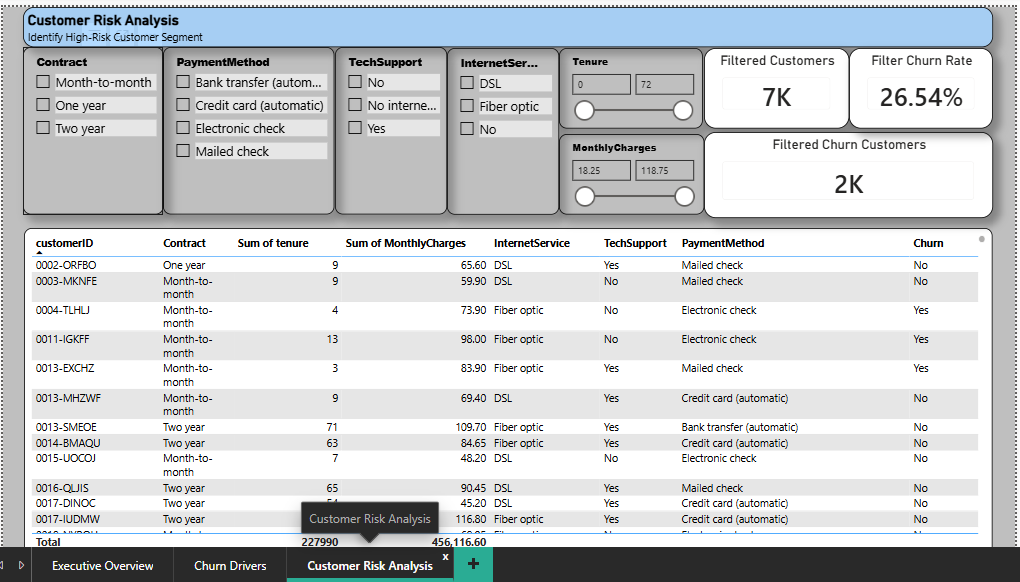

The dashboard page shown, as its layout file describes it:
{"tool":"powerbi","page":{"name":"Customer Risk Analysis","canvas":[1280,720],"ordinal":2},"visuals":[{"type":"slicer","fields":{"Values":["Cleaned_Data.Contract"]},"box":[25.4,50.8,177.8,212.1],"z":0},{"type":"slicer","fields":{"Values":["Cleaned_Data.InternetService"]},"box":[561.7,52.3,141.9,210.6],"z":1000},{"type":"slicer","fields":{"Values":["Cleaned_Data.tenure"]},"box":[703.6,52.3,182.2,101.6],"z":2000},{"type":"slicer","fields":{"Values":["Cleaned_Data.TechSupport"]},"box":[419.8,50.8,141.9,212.1],"z":3000},{"type":"slicer","fields":{"Values":["Cleaned_Data.PaymentMethod"]},"box":[203.2,50.8,216.6,212.1],"z":4000},{"type":"tableEx","fields":{"Values":["Cleaned_Data.customerID","Cleaned_Data.Contract","Sum(Cleaned_Data.tenure)","Sum(Cleaned_Data.MonthlyCharges)","Cleaned_Data.InternetService","Cleaned_Data.TechSupport","Cleaned_Data.PaymentMethod","Cleaned_Data.Churn"]},"box":[26.9,279.3,1226.4,424.2],"z":5000},{"type":"slicer","fields":{"Values":["Cleaned_Data.MonthlyCharges"]},"box":[703.6,161.3,183.7,101.6],"z":6000},{"type":"shape","title":"Customer Risk Analysis","box":[25.4,0,1227.9,50.8],"z":7000},{"type":"cardVisual","title":"Filtered Customers","fields":{"Data":["Cleaned_Data.Filterd Customers"]},"box":[887.3,52.3,183.7,101.6],"z":7001},{"type":"cardVisual","title":"Filtered Churn Customers","fields":{"Data":["Cleaned_Data.Filtered Churn Customers"]},"box":[887.3,158.3,366,109],"z":7002},{"type":"cardVisual","title":"Filter Churn Rate","fields":{"Data":["Cleaned_Data.Filtered Churn Rate"]},"box":[1071,52.3,182.2,101.6],"z":7003}]}

Visuals, with their boxes in screenshot pixels (x1, y1, x2, y2):
slicer - Cleaned_Data.Contract: select_region(23, 43, 162, 209)
slicer - Cleaned_Data.InternetService: select_region(444, 44, 556, 209)
slicer - Cleaned_Data.tenure: select_region(556, 44, 699, 124)
slicer - Cleaned_Data.TechSupport: select_region(333, 43, 444, 209)
slicer - Cleaned_Data.PaymentMethod: select_region(162, 43, 333, 209)
tableEx - Cleaned_Data.customerID x Cleaned_Data.Contract: select_region(24, 222, 988, 556)
slicer - Cleaned_Data.MonthlyCharges: select_region(556, 129, 700, 209)
"Customer Risk Analysis" shape: select_region(23, 3, 988, 43)
"Filtered Customers" cardVisual: select_region(700, 44, 844, 124)
"Filtered Churn Customers" cardVisual: select_region(700, 127, 988, 213)
"Filter Churn Rate" cardVisual: select_region(844, 44, 987, 124)
